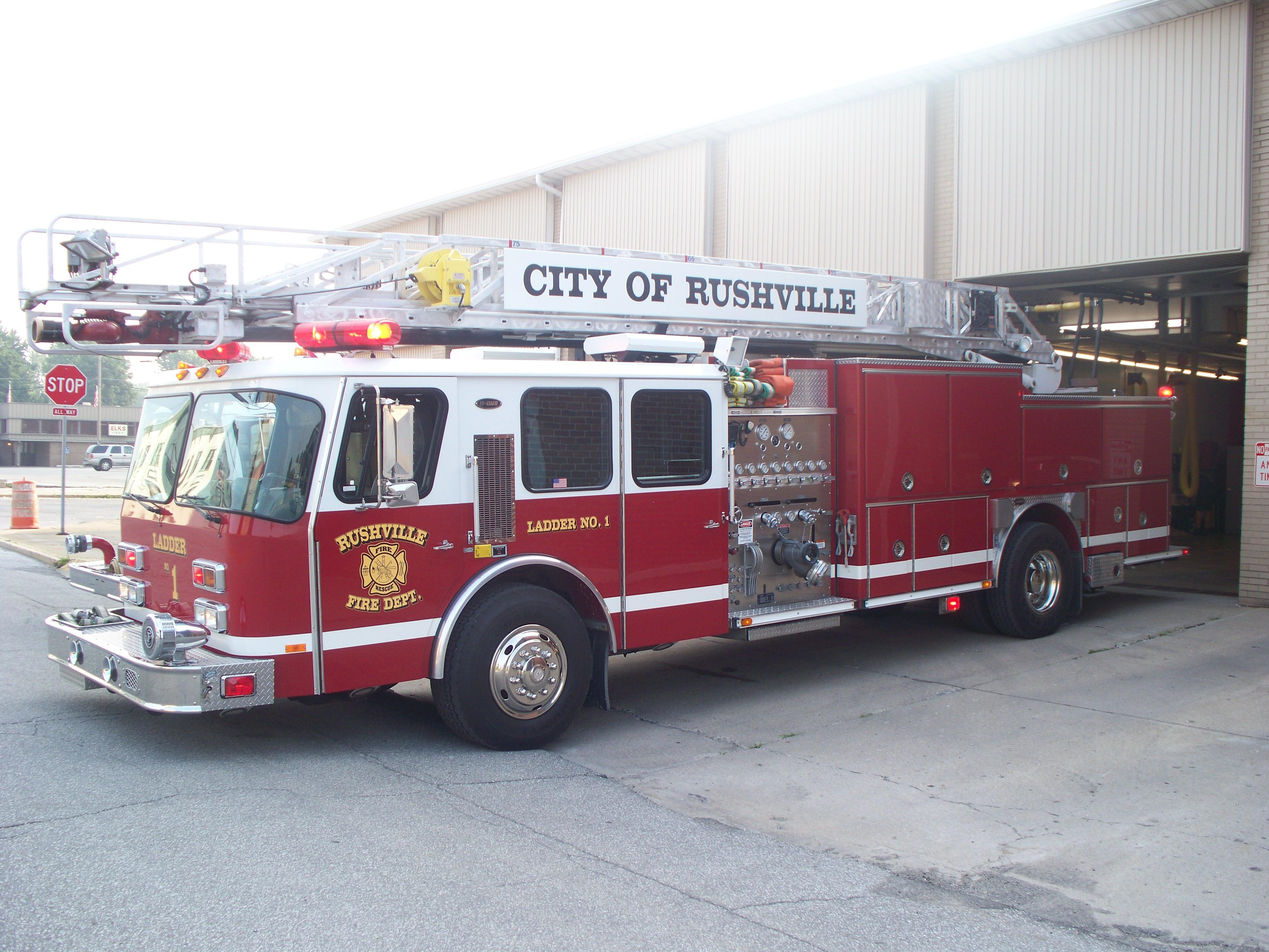Fire-engine: (44, 237, 1180, 752)
